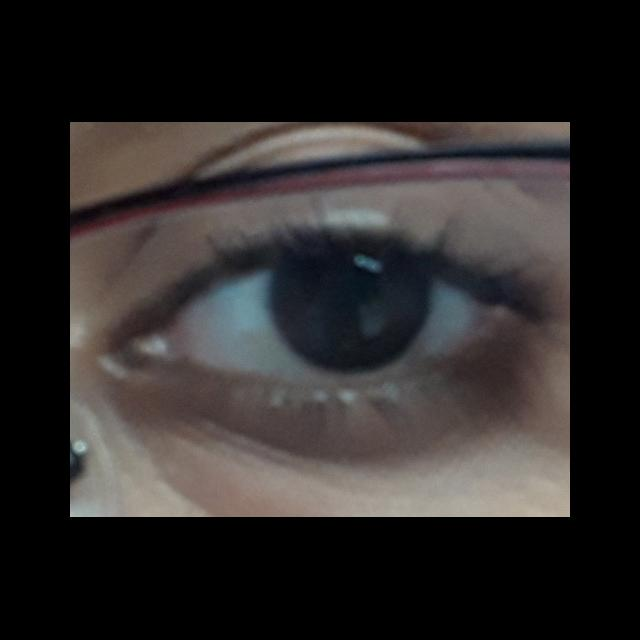eye: (171, 252, 484, 378)
iris: (269, 256, 435, 378)
